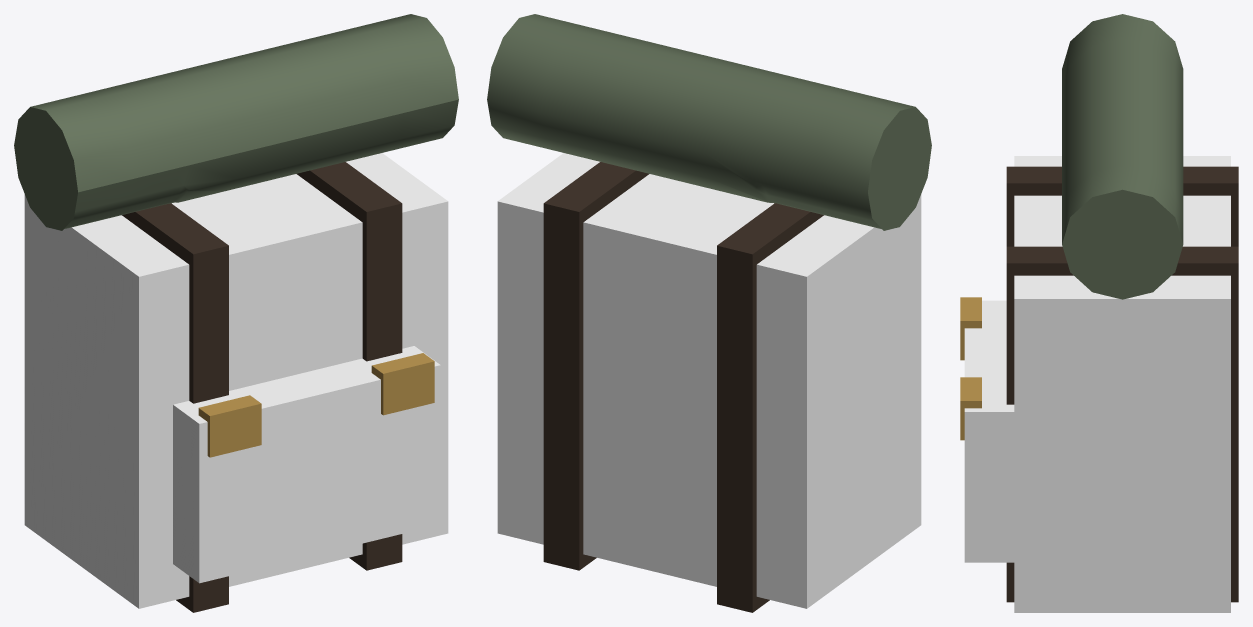
Rendered from backpack_small.glb.
The picture shows the model from 3 angles, left to right: view 1: azimuth 30°, elevation 25°; view 2: azimuth 150°, elevation 25°; view 3: azimuth 270°, elevation 25°; orthographic projection. The views are drawn at different scales.
Visible parts, largest first — view 1: Body, Bedroll, FrontPocket, Strap2, Strap, Buckle, Buckle2; view 2: Body, Bedroll, Strap2, Strap; view 3: Body, Bedroll, FrontPocket, Strap2, Strap, Buckle, Buckle2.
Boxes of the visible parts, bbox=[...] form: Body: bbox=[24, 153, 448, 608]; Bedroll: bbox=[14, 14, 458, 230]; FrontPocket: bbox=[173, 346, 440, 583]; Strap2: bbox=[297, 162, 402, 570]; Strap: bbox=[122, 203, 228, 612]; Buckle: bbox=[198, 395, 261, 457]; Buckle2: bbox=[371, 353, 434, 415]; Body: bbox=[497, 153, 921, 608]; Bedroll: bbox=[487, 14, 931, 230]; Strap2: bbox=[543, 162, 648, 570]; Strap: bbox=[717, 203, 823, 612]; Body: bbox=[1014, 156, 1230, 612]; Bedroll: bbox=[1062, 14, 1183, 299]; FrontPocket: bbox=[964, 300, 1014, 562]; Strap2: bbox=[1006, 246, 1238, 602]; Strap: bbox=[1006, 166, 1238, 246]; Buckle: bbox=[960, 297, 981, 360]; Buckle2: bbox=[960, 377, 981, 440].
Size of the model in its own units: 0.48 by 0.576 by 0.3215.
